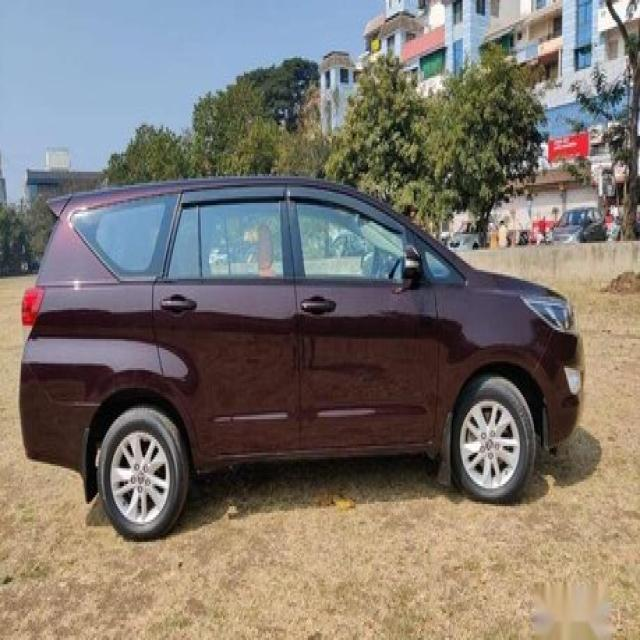light_vehicle: (18, 175, 587, 543)
